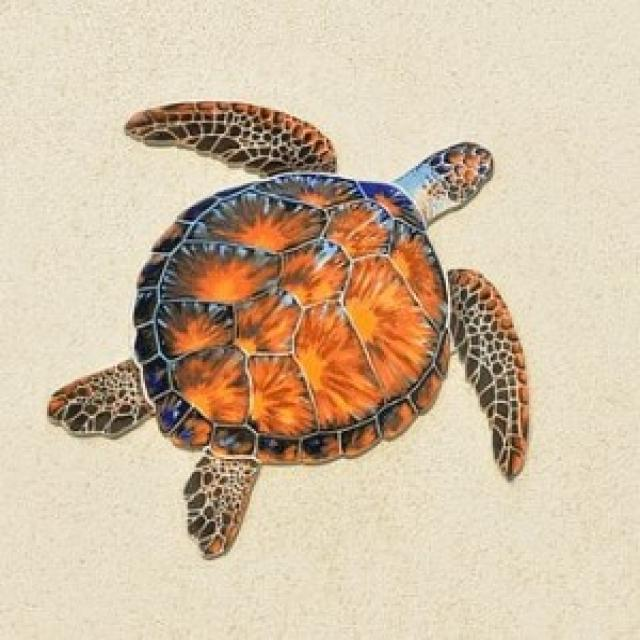Sea turtle: (35, 95, 545, 563)
